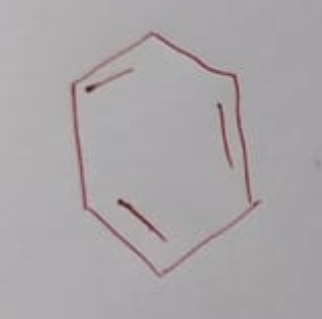shape_mask: (58, 24, 279, 287)
